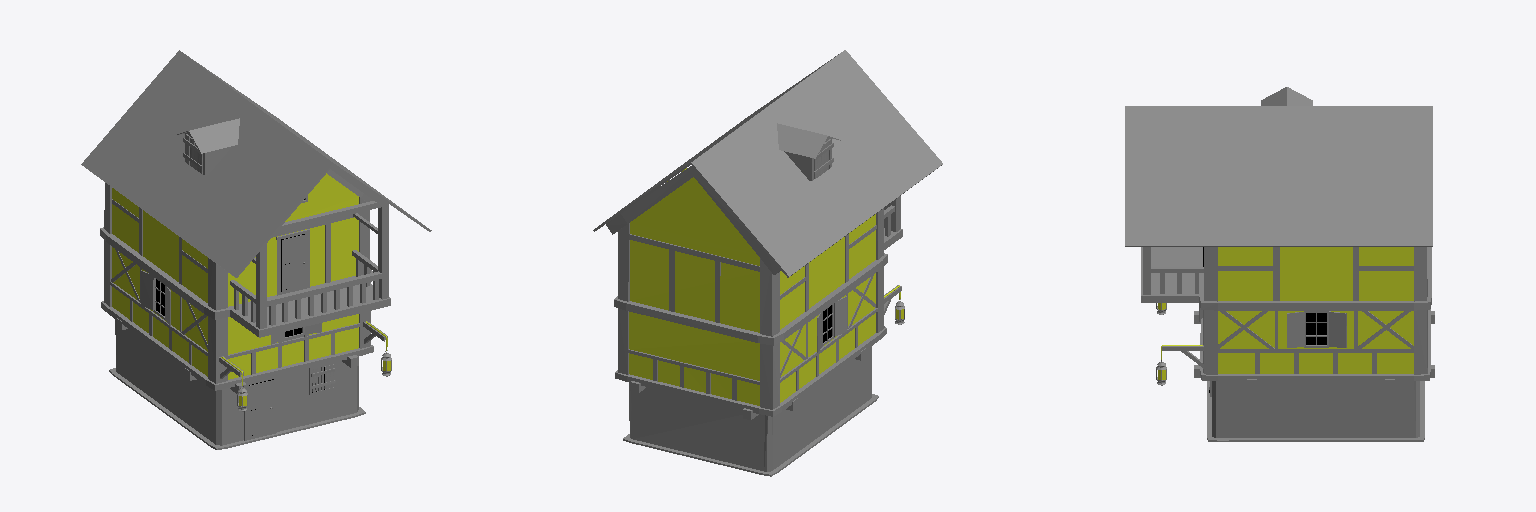
The model's file is Barrack.obj.
3 renders of one model, left to right at view 1: azimuth 30°, elevation 25°; view 2: azimuth 150°, elevation 25°; view 3: azimuth 270°, elevation 25°, orthographic.
Visible parts, largest first — view 1: Plane001; view 2: Plane001; view 3: Plane001.
Boxes of the visible parts, <box> form: Plane001: <box>81,50,431,449</box>; Plane001: <box>593,50,942,476</box>; Plane001: <box>1125,87,1434,441</box>.
Size of the model in its own units: 90.2 by 131 by 123.